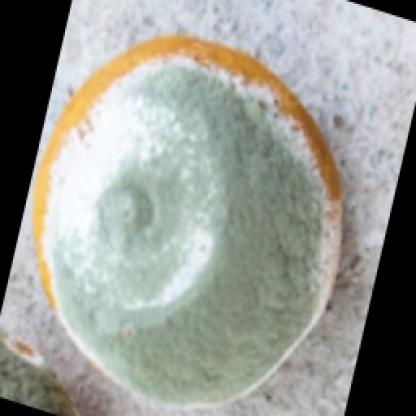rotten: (35, 34, 344, 410)
